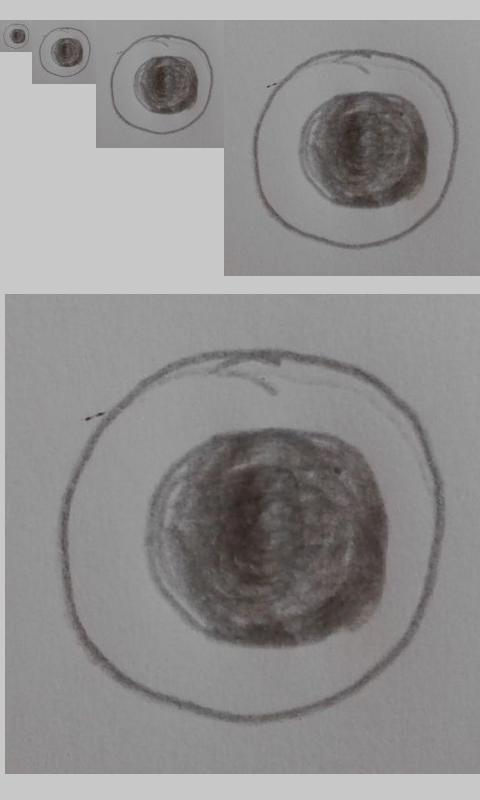radio_button: (55, 346, 446, 726), (251, 47, 462, 252), (109, 33, 215, 136), (38, 26, 92, 78), (2, 23, 30, 49)
